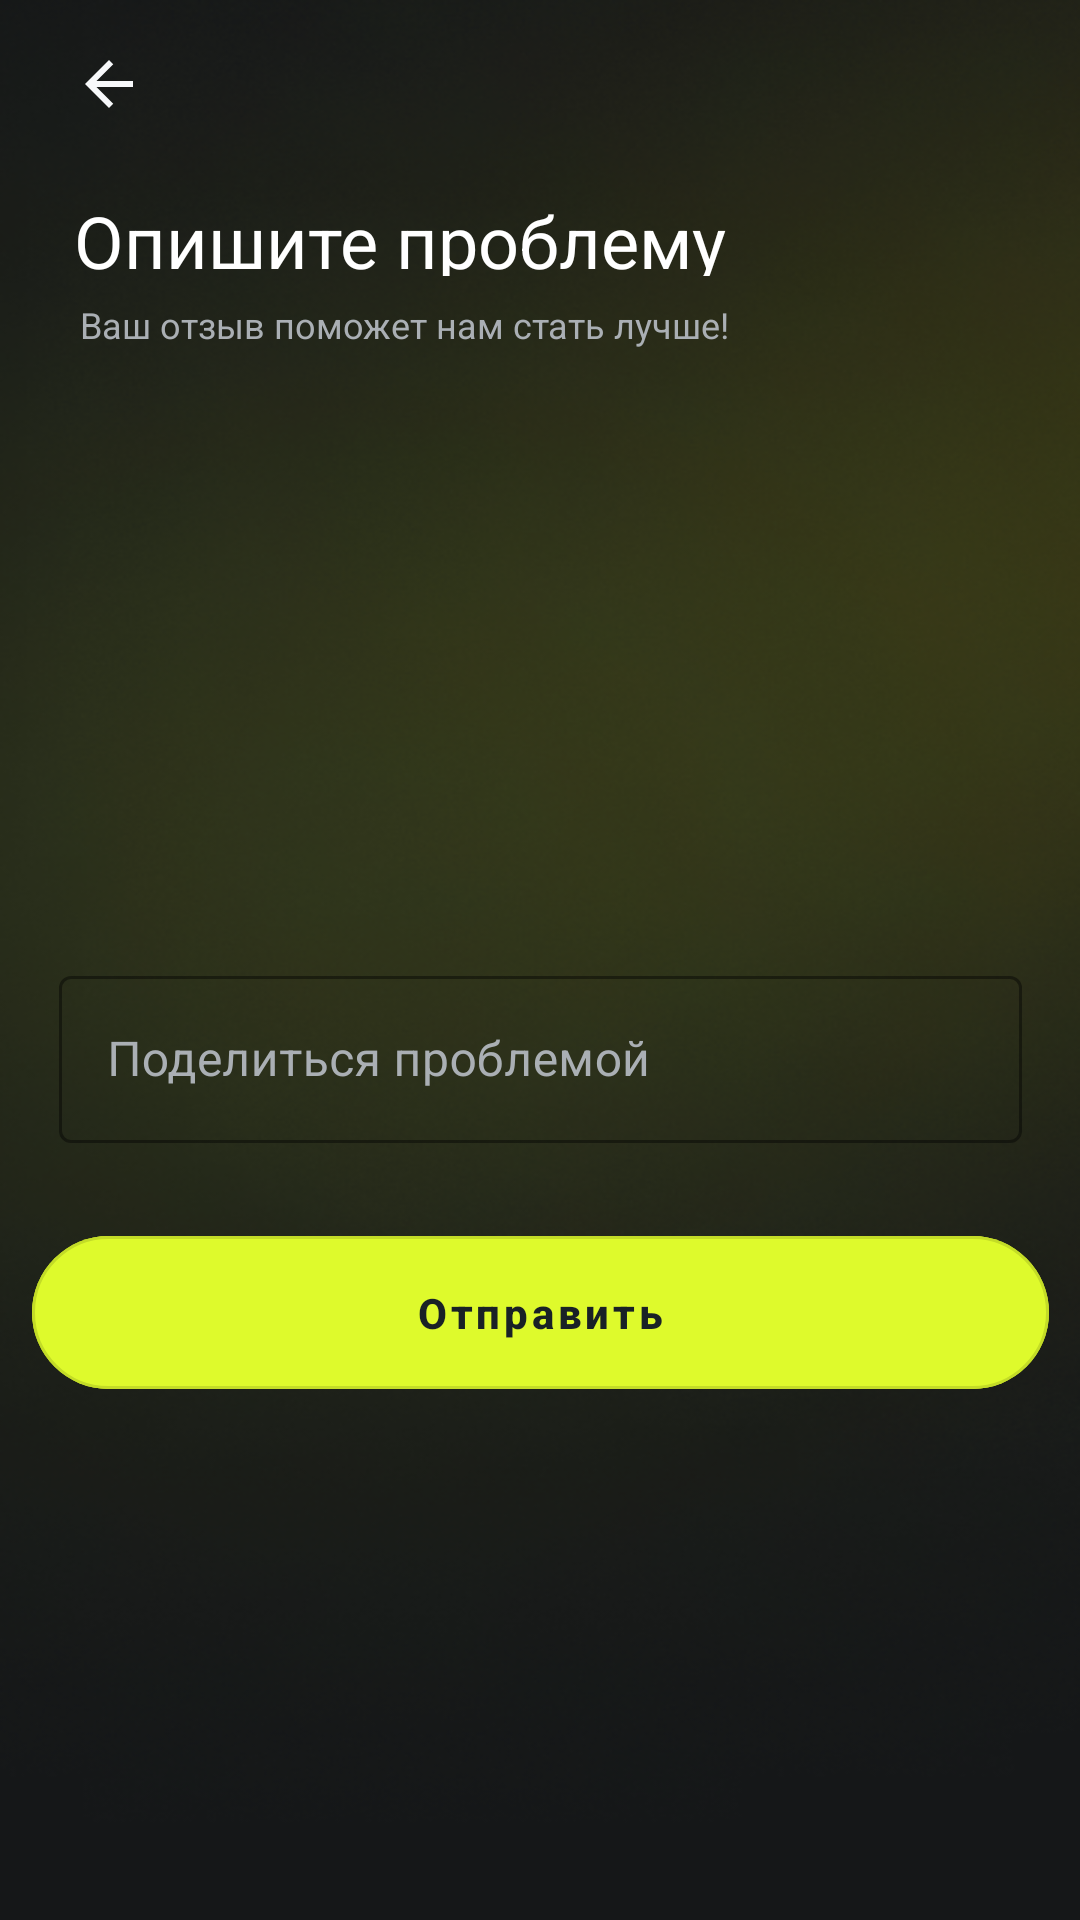

Where icons sit on this 1080×1920 app screen, as {"left": x1, "top": y1, "right": x2, "bottom": y2}:
iconbackvector: {"left": 85, "top": 60, "right": 133, "bottom": 108}
